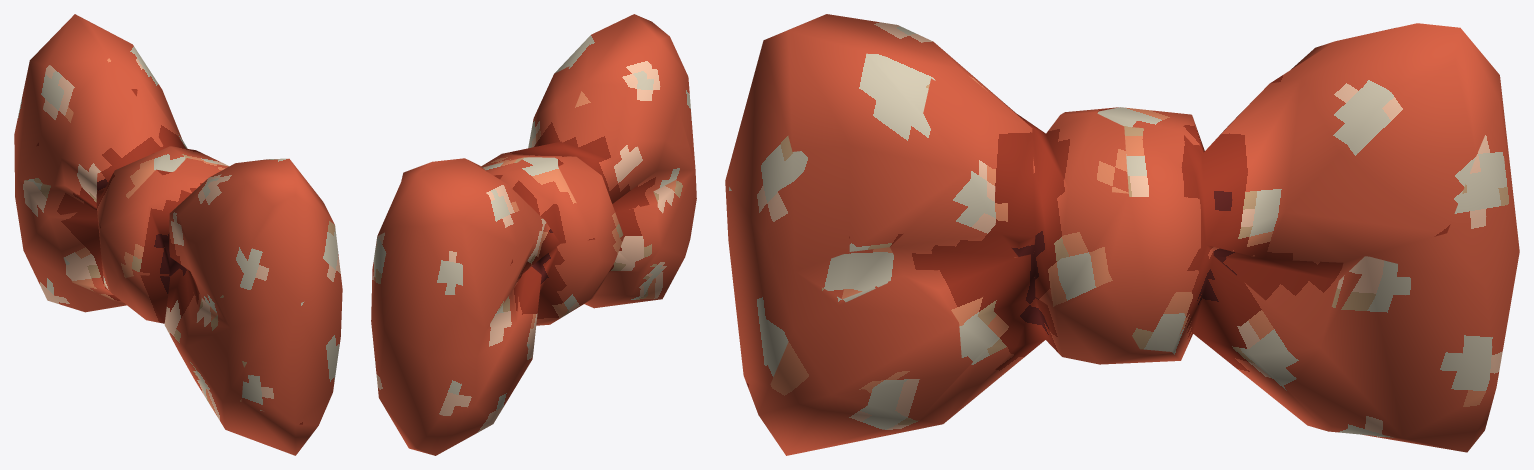
File: x-bowtie.glb
3 views of the same model, side by side, from view 1: azimuth 30°, elevation 25°; view 2: azimuth 150°, elevation 25°; view 3: azimuth 270°, elevation 25° (orthographic). The views are drawn at different scales.
Visible parts, largest first — view 1: tripo_node_7f085a68-643b-419d-90b2-770c28c1c7c3; view 2: tripo_node_7f085a68-643b-419d-90b2-770c28c1c7c3; view 3: tripo_node_7f085a68-643b-419d-90b2-770c28c1c7c3.
Boxes of the visible parts, x1=… form: tripo_node_7f085a68-643b-419d-90b2-770c28c1c7c3: x1=14, y1=14, x2=342, y2=455; tripo_node_7f085a68-643b-419d-90b2-770c28c1c7c3: x1=371, y1=14, x2=696, y2=455; tripo_node_7f085a68-643b-419d-90b2-770c28c1c7c3: x1=725, y1=14, x2=1519, y2=455.
Bounding box in the file's own units: 0.3165 × 0.5923 × 0.987.
1 material, 1 textured.
